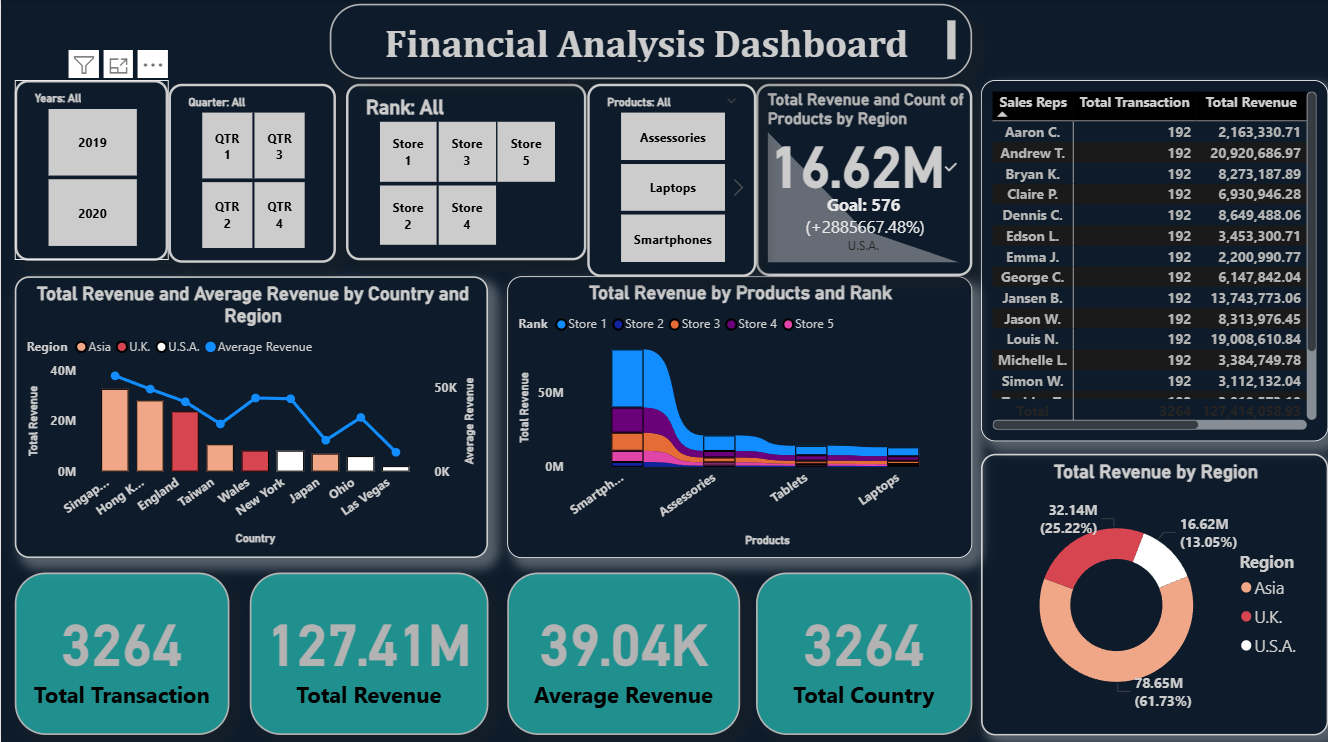

Layout of this report page (visuals, bound fields, positions):
{"tool":"powerbi","page":{"name":"Page 1","canvas":[1280,720],"ordinal":0},"visuals":[{"type":"card","fields":{"Values":["Measures (2).Total Transaction"]},"box":[13.7,553,207.2,156.4],"z":0},{"type":"card","fields":{"Values":["Measures (2).Total Revenue"]},"box":[240.1,553,230.5,156.4],"z":1000},{"type":"card","fields":{"Values":["Measures (2).Average Revenue"]},"box":[488.5,553,225,156.4],"z":2000},{"type":"card","fields":{"Values":["Measures (2).Total Country"]},"box":[728.6,553,208.6,156.4],"z":3000},{"type":"donutChart","fields":{"Y":["Measures (2).Total Revenue"],"Category":["Sheet1.Region"]},"box":[945.5,437.7,334.8,271.7],"z":4000},{"type":"lineStackedColumnComboChart","fields":{"Category":["Sheet1.Country"],"Y":["Measures (2).Total Revenue"],"Y2":["Measures (2).Average Revenue"],"Series":["Sheet1.Region"]},"box":[13.7,266.2,456.9,271.7],"z":5000},{"type":"ribbonChart","fields":{"Category":["Sheet1.Products"],"Y":["Measures (2).Total Revenue"],"Series":["Sheet1.Rank"]},"box":[488.5,266.2,448.7,271.7],"z":6000},{"type":"pivotTable","fields":{"Rows":["Sheet1.Sales Reps"],"Values":["Measures (2).Total Transaction","Measures (2).Total Revenue","Measures (2).Average Revenue"]},"box":[945.5,76.8,334.8,348.5],"z":7000},{"type":"slicer","fields":{"Values":["Sheet1.Years"]},"box":[13.7,76.8,148.2,174.3],"z":8000},{"type":"slicer","fields":{"Values":["Sheet1.Quarter"]},"box":[161.9,81,161.9,172.9],"z":9000},{"type":"slicer","fields":{"Values":["Sheet1.Rank"]},"box":[333.4,81,231.9,170.2],"z":10000},{"type":"kpi","fields":{"Indicator":["Measures (2).Total Revenue"],"TrendLine":["Sheet1.Region"],"Goal":["Sheet1.Products"]},"box":[728.6,81,208.6,185.2],"z":11000},{"type":"textbox","box":[317,4.1,620.2,72.7],"z":12000},{"type":"slicer","fields":{"Values":["Sheet1.Products"]},"box":[565.4,81,163.3,186.6],"z":13000}]}

Visuals, with their boxes in screenshot pixels (x1, y1, x2, y2), scaled from the page's 1280x720 canvas onto the 1328x742 screenshot:
card - Measures (2).Total Transaction: x1=14, y1=570, x2=229, y2=731
card - Measures (2).Total Revenue: x1=249, y1=570, x2=488, y2=731
card - Measures (2).Average Revenue: x1=507, y1=570, x2=740, y2=731
card - Measures (2).Total Country: x1=756, y1=570, x2=972, y2=731
donutChart - Measures (2).Total Revenue x Sheet1.Region: x1=981, y1=451, x2=1327, y2=731
lineStackedColumnComboChart - Sheet1.Country x Measures (2).Total Revenue: x1=14, y1=274, x2=488, y2=554
ribbonChart - Sheet1.Products x Measures (2).Total Revenue: x1=507, y1=274, x2=972, y2=554
pivotTable - Sheet1.Sales Reps x Measures (2).Total Transaction: x1=981, y1=79, x2=1327, y2=438
slicer - Sheet1.Years: x1=14, y1=79, x2=168, y2=259
slicer - Sheet1.Quarter: x1=168, y1=83, x2=336, y2=262
slicer - Sheet1.Rank: x1=346, y1=83, x2=586, y2=259
kpi - Measures (2).Total Revenue x Sheet1.Region: x1=756, y1=83, x2=972, y2=274
textbox: x1=329, y1=4, x2=972, y2=79
slicer - Sheet1.Products: x1=587, y1=83, x2=756, y2=276
